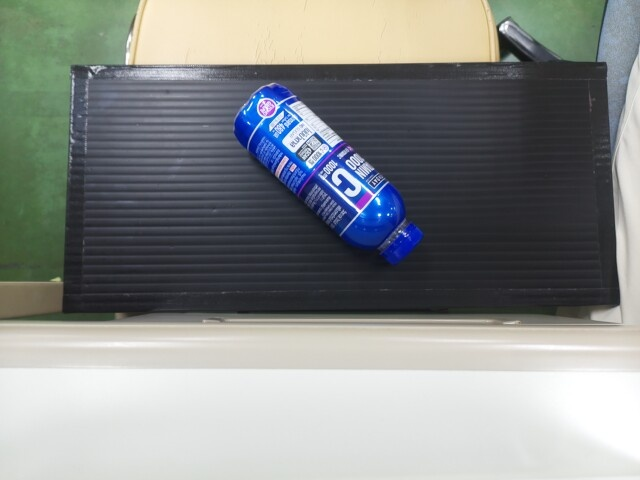plastic_bottle: (249, 76, 421, 262)
